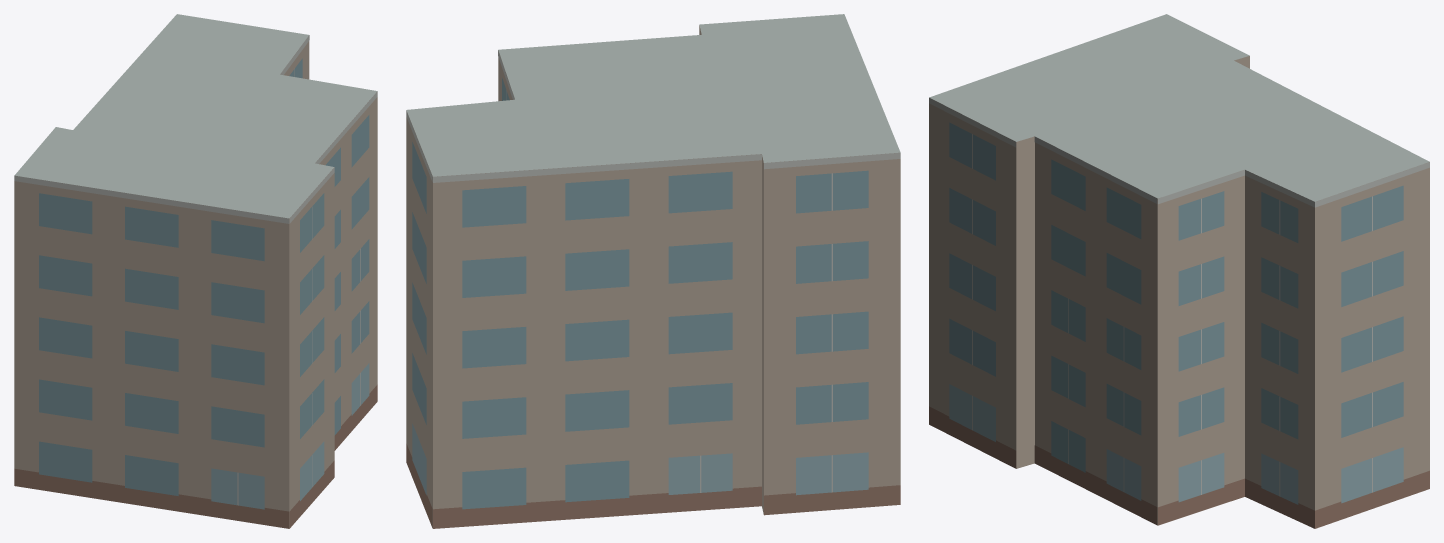
File: survey-upis-32931565.glb
3 views of the same model, side by side, from view 1: azimuth 30°, elevation 25°; view 2: azimuth 150°, elevation 25°; view 3: azimuth 270°, elevation 25° (orthographic). The views are drawn at different scales.
Visible parts, largest first — view 1: survey-upis-32931565.tmp; view 2: survey-upis-32931565.tmp; view 3: survey-upis-32931565.tmp.
Boxes of the visible parts, left/top/right/bottom form: survey-upis-32931565.tmp: left=14, top=14, right=377, bottom=528; survey-upis-32931565.tmp: left=406, top=14, right=900, bottom=528; survey-upis-32931565.tmp: left=929, top=14, right=1429, bottom=528.
Size of the model in its own units: 16.88 by 13.7 by 19.02.
